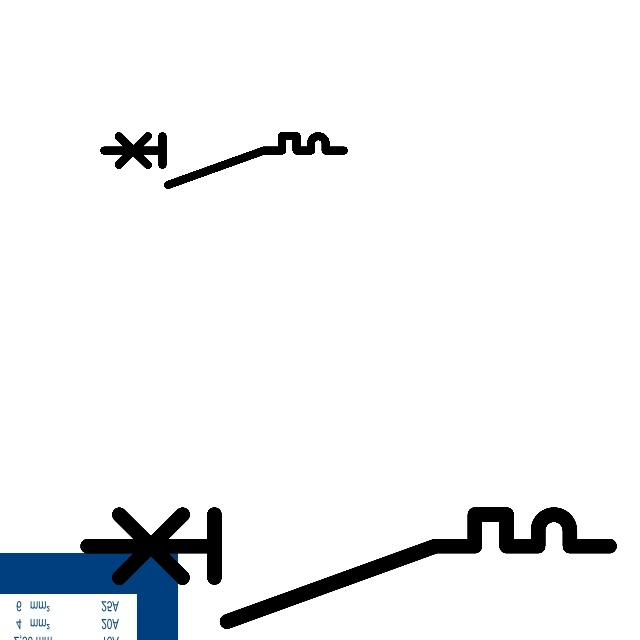interruptor_termomagnetico: (74, 501, 623, 635), (98, 130, 350, 191)
